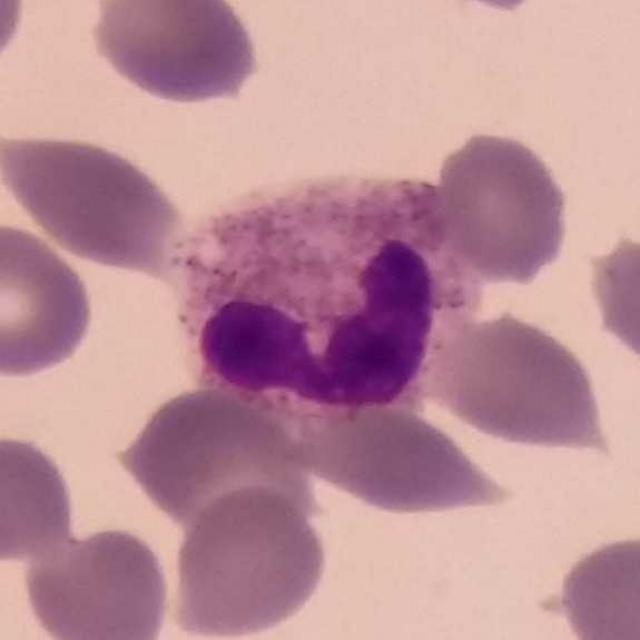Neutrophil: (167, 159, 454, 429)
RBC: (112, 384, 318, 540), (294, 386, 523, 521), (0, 124, 190, 272), (425, 306, 611, 453), (165, 481, 333, 640), (428, 126, 576, 285), (84, 0, 267, 108), (19, 520, 176, 640), (0, 217, 99, 381), (0, 427, 80, 569), (547, 527, 640, 640), (582, 224, 640, 377), (0, 0, 31, 86), (447, 0, 550, 16)
